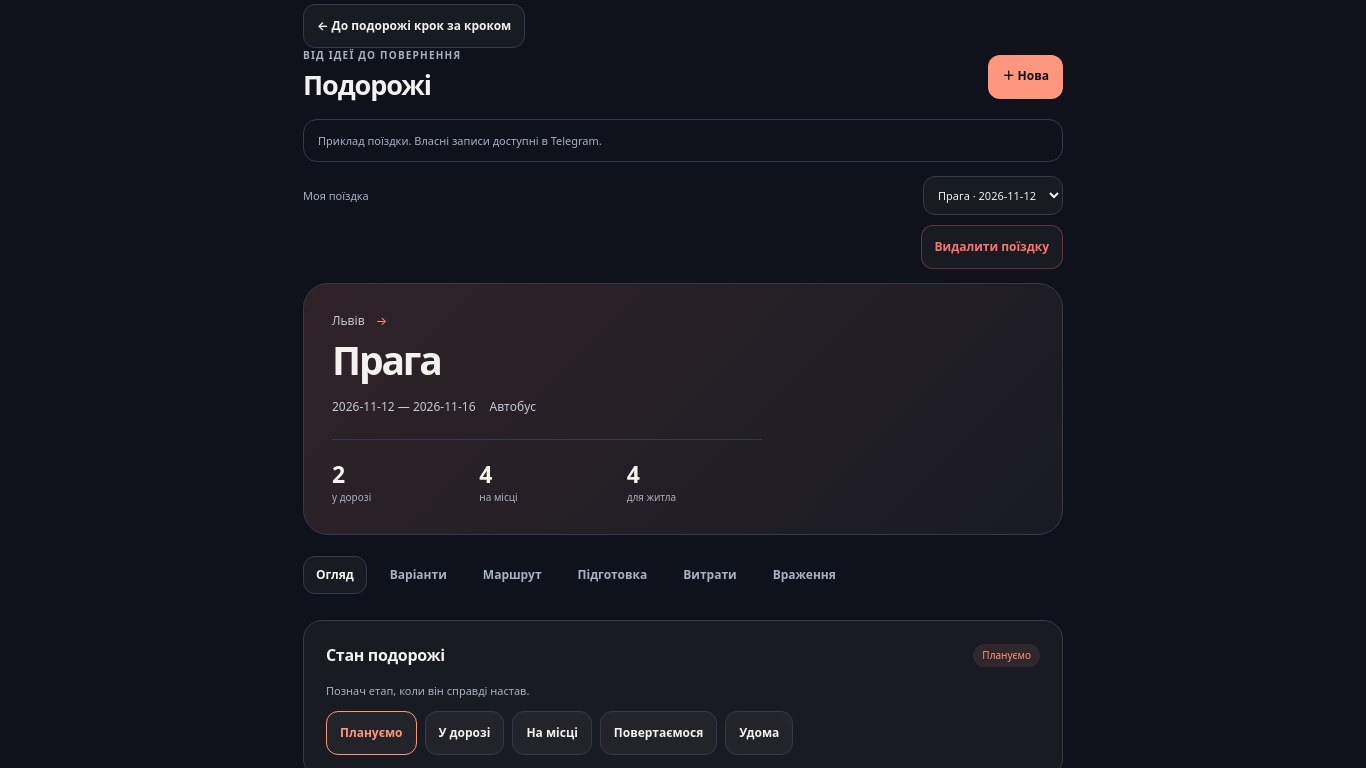
Test: travel companion screen › preserves the open form and blocks repeated writes after an uncertain save until data is refreshed
The width and height of the screenshot is (1366, 768).
Expected: the heading "Прага" is shown, [332,333,441,386]
Click the button "Підготовка" at [612, 575], box [564,556,660,594]
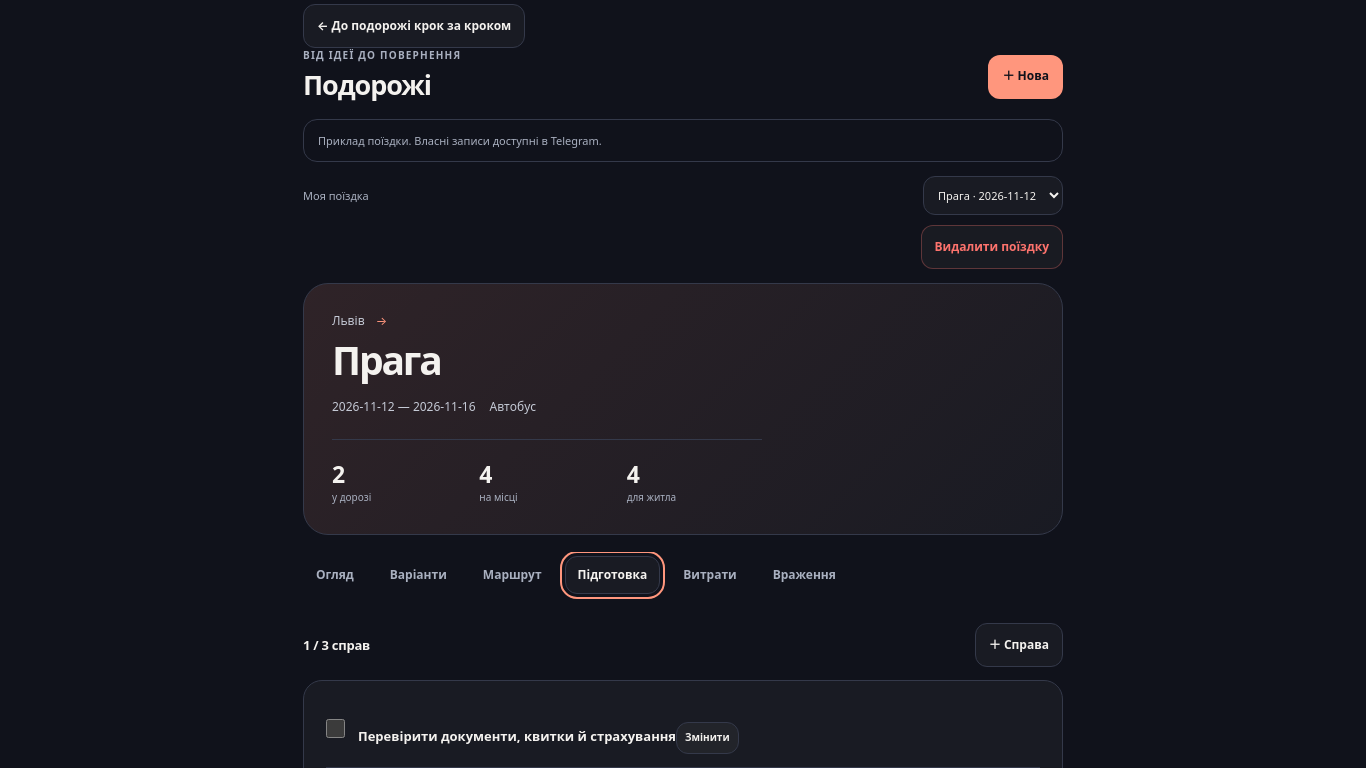
Click the button "＋ Справа" at [1019, 645], box [975,623,1063,667]
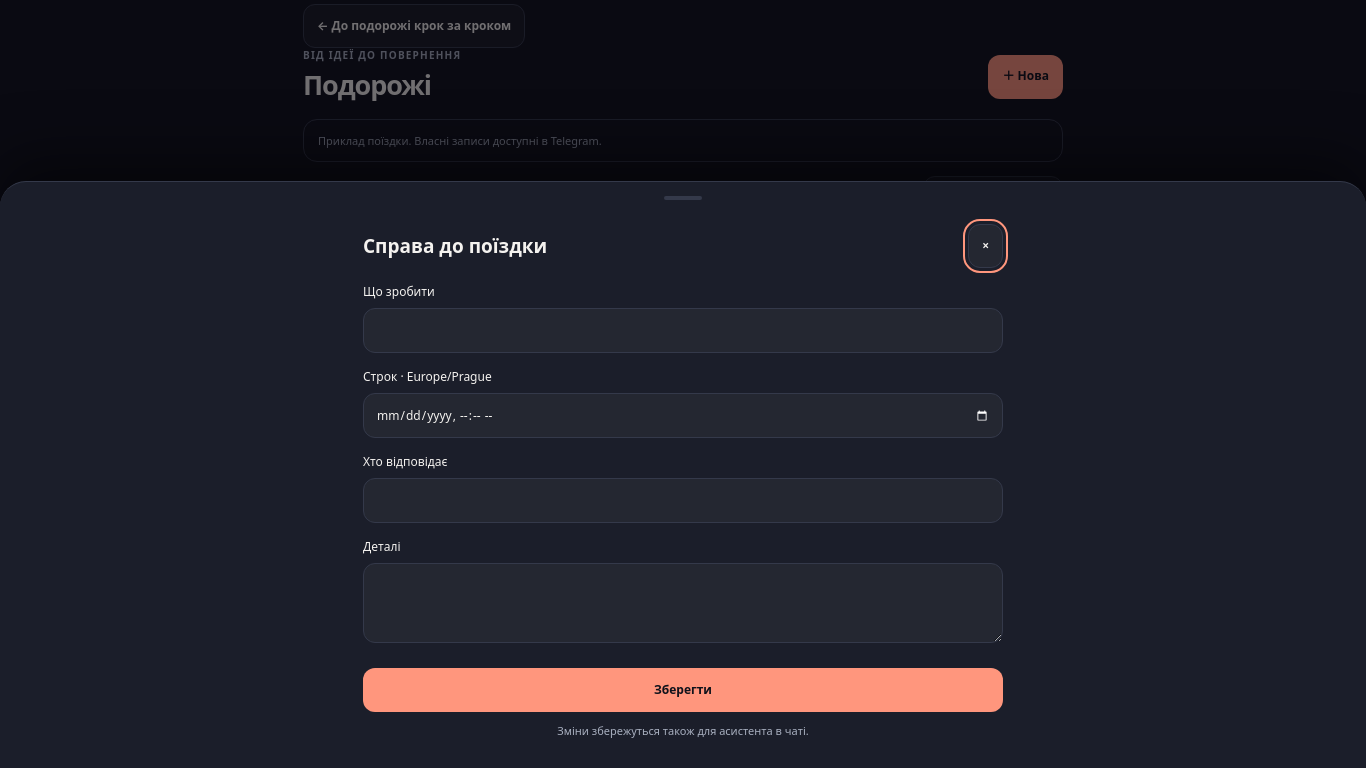
Type "Зберегти маршрут" into the field labelled "Що зробити" at [683, 331], box [363,308,1003,353]
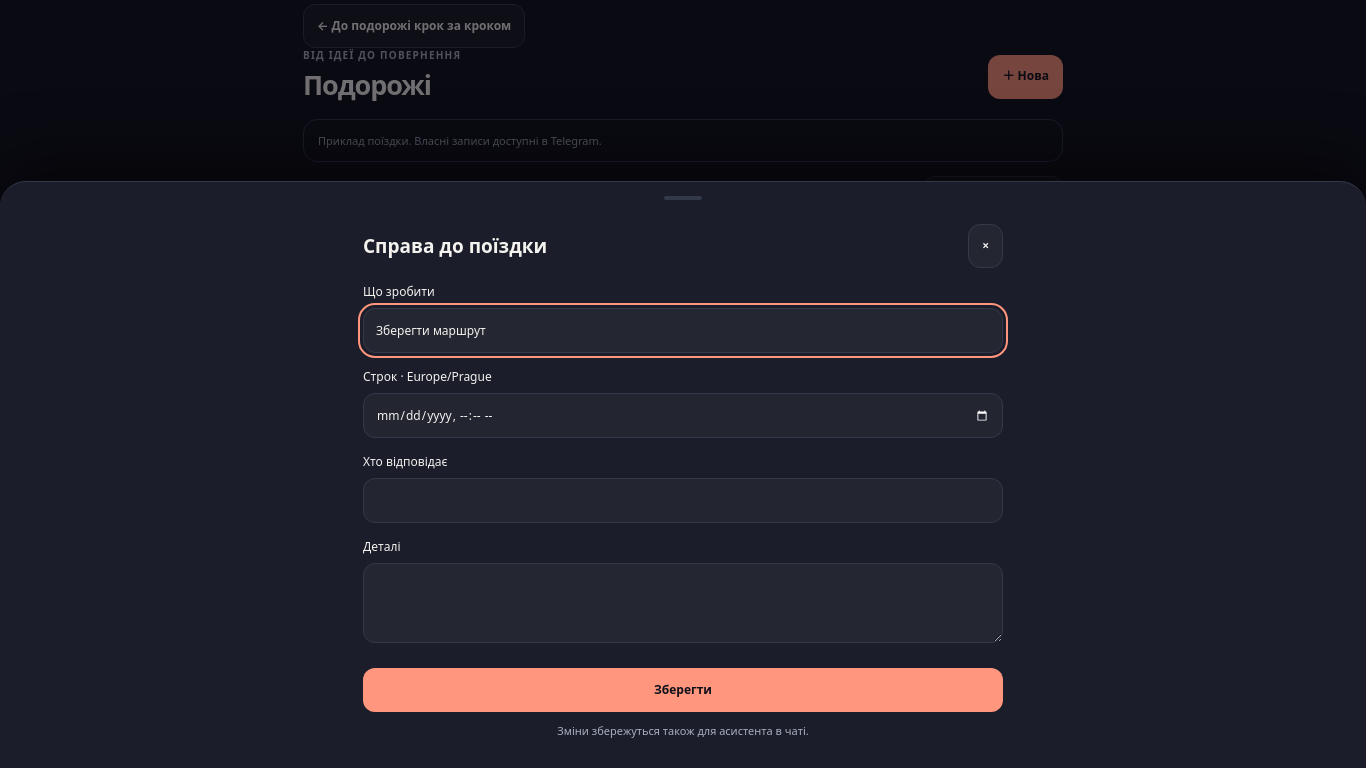
Click the button "Зберегти" at [683, 690], box [363,668,1003,712]
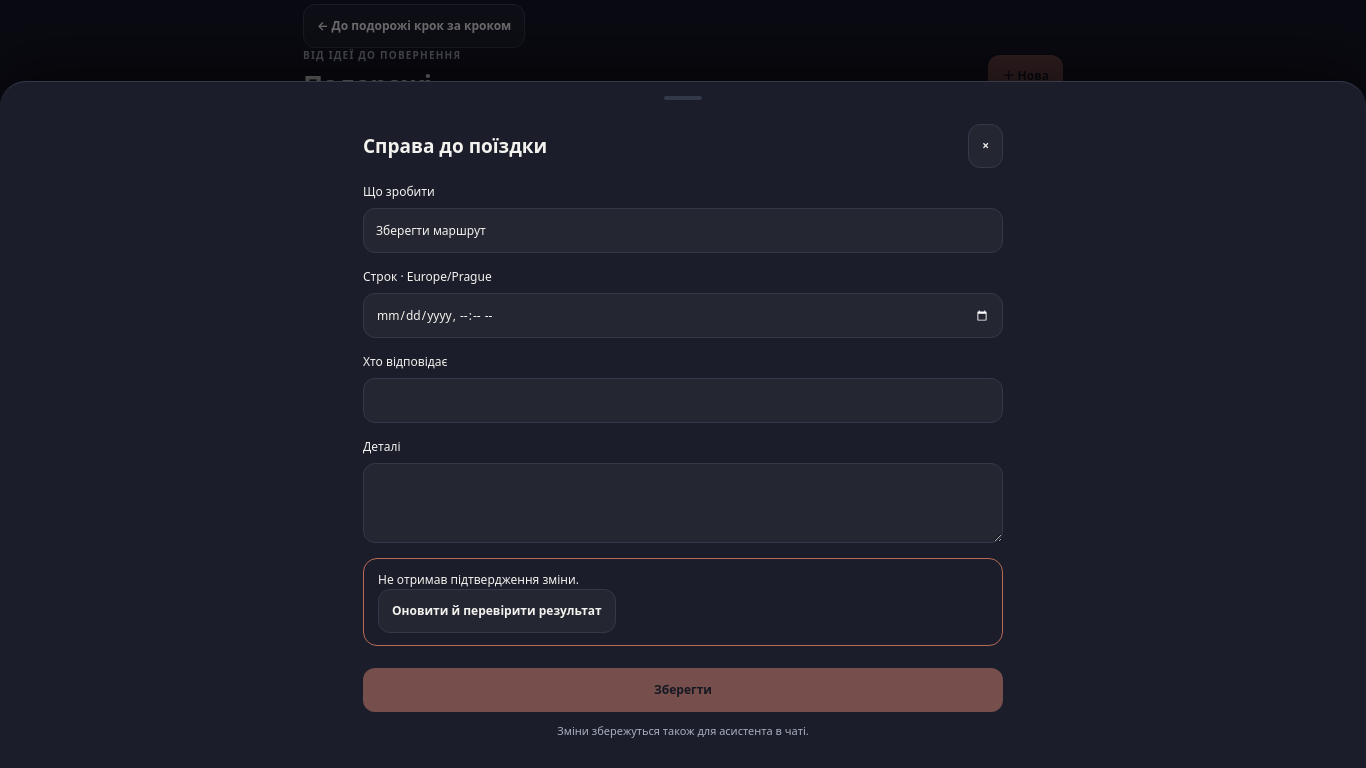
Expected: the message shows "Не отримав підтвердження", [378,571,579,588]
Expected: the button "Зберегти" is disabled, [363,668,1003,712]
Click the button "Оновити й перевірити результат" at [497, 611], box [378,589,616,633]
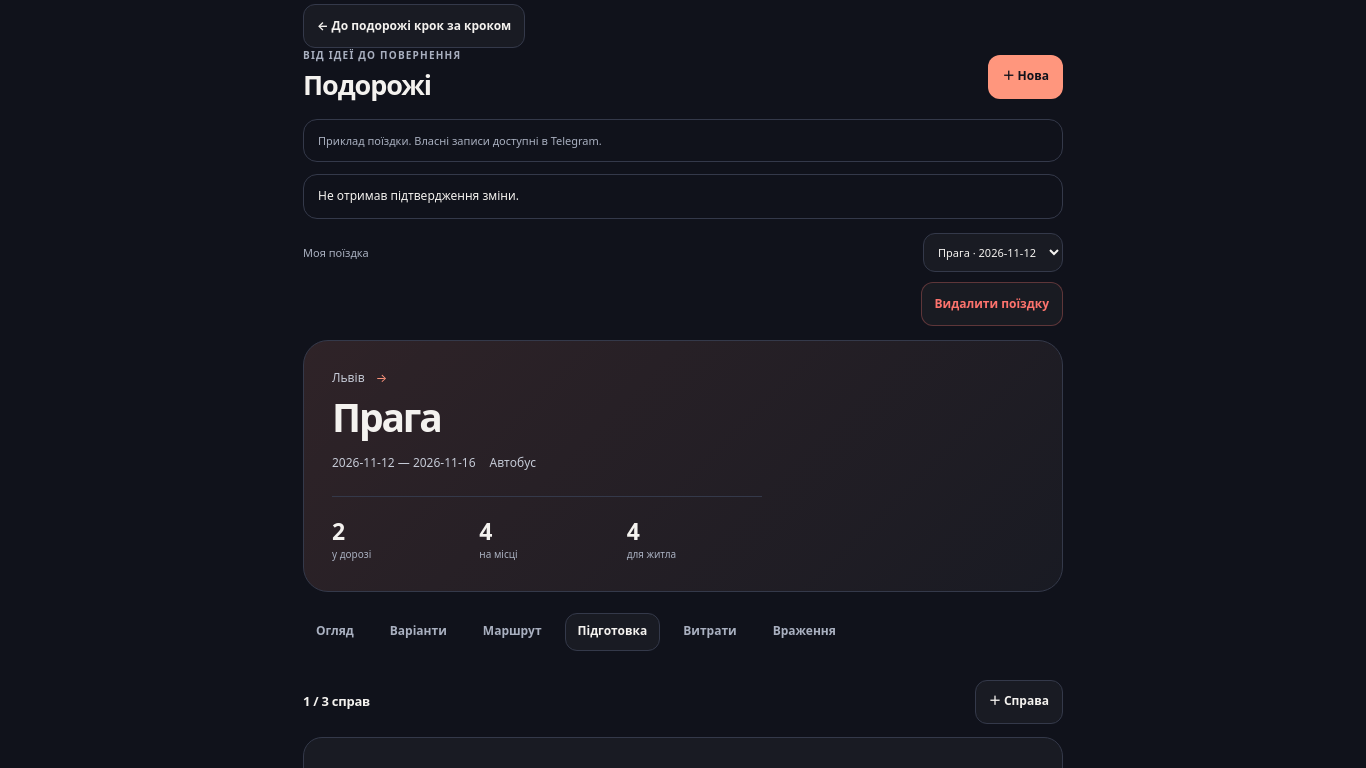
Expected: the dialog is gone
